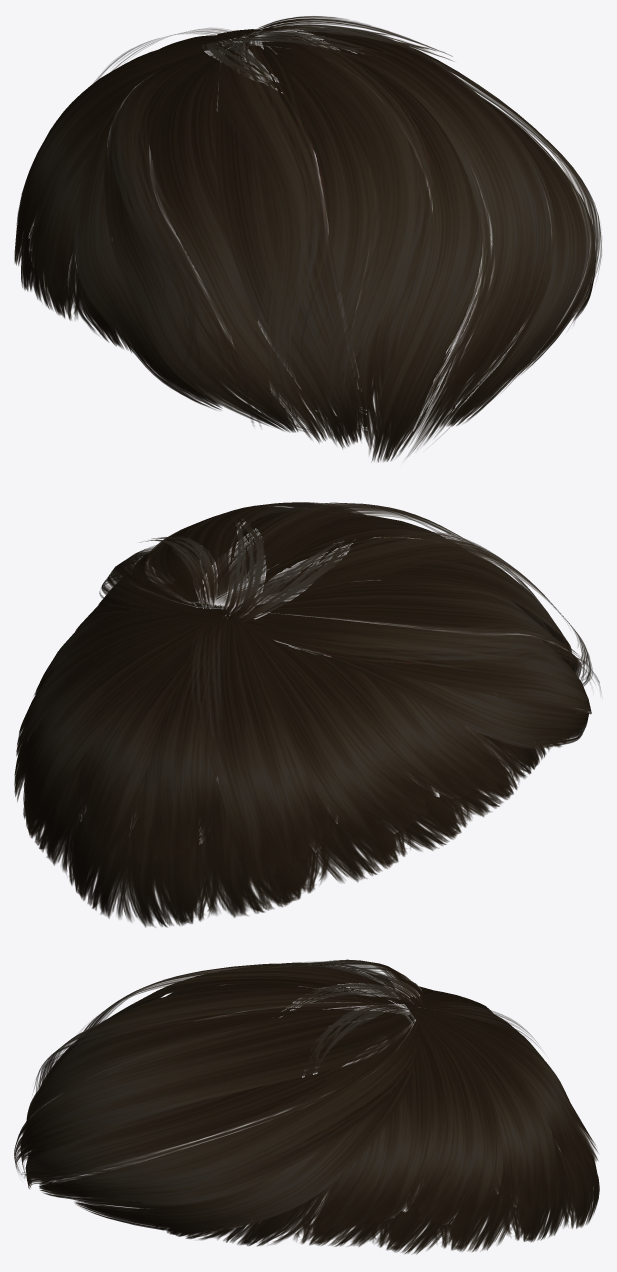
Rendered from diamond_wavy_01 FrenchCrop1.glb.
3 renders of one model, top to bottom at view 1: azimuth 30°, elevation 25°; view 2: azimuth 150°, elevation 25°; view 3: azimuth 270°, elevation 25°, orthographic. The views are drawn at different scales.
Visible parts, largest first — view 1: s4studio_mesh_2002; view 2: s4studio_mesh_2002; view 3: s4studio_mesh_2002.
Boxes of the visible parts, x1,y1,x2,y2 form: s4studio_mesh_2002: (14, 16, 601, 462); s4studio_mesh_2002: (14, 502, 600, 927); s4studio_mesh_2002: (14, 959, 599, 1254).
Bounding box in the file's own units: 0.1792 × 0.1044 × 0.2342.
Materials: 1 (1 with a texture image).
